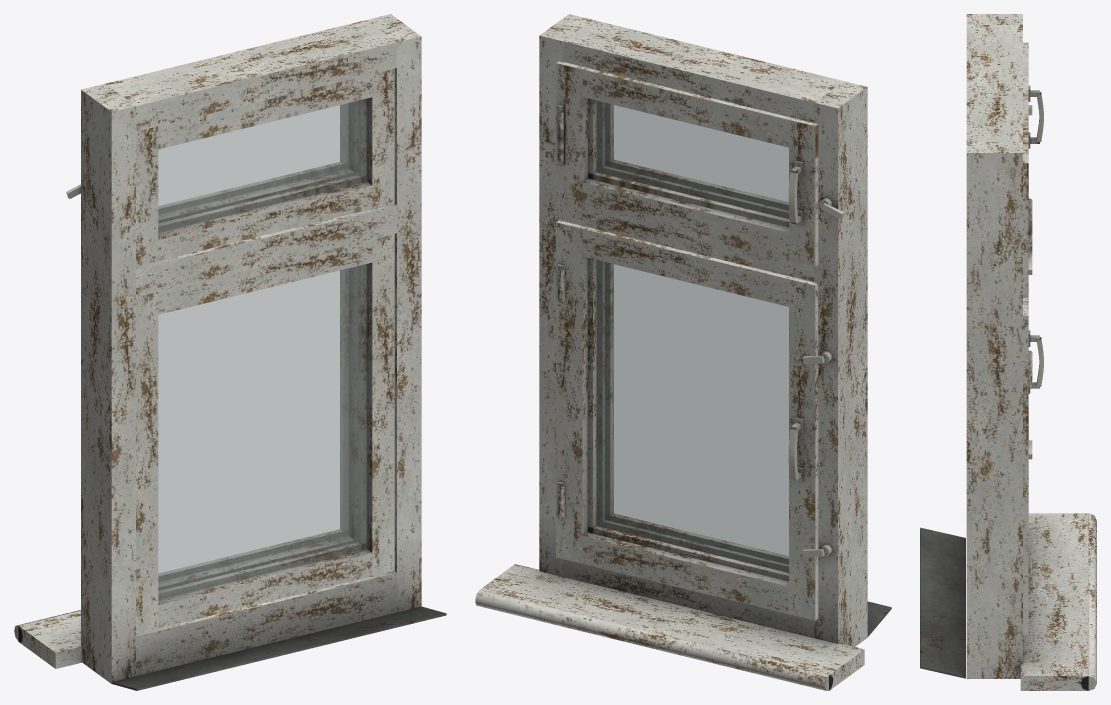
File: win_1_small_web.glb
3 views of the same model, side by side, from view 1: azimuth 30°, elevation 25°; view 2: azimuth 150°, elevation 25°; view 3: azimuth 270°, elevation 25° (orthographic). The views are drawn at different scales.
Parts seen in each view (by area): view 1: Win1Small_Body, Glass_Sash_C_out, Glass_Sash_C_in, Sash_C_Mesh, Fort_C_Mesh, Glass_Fort_C_out, Glass_Fort_C_in; view 2: Win1Small_Body, Glass_Sash_C_in, Sash_C_Mesh, Glass_Sash_C_out, Fort_C_Mesh, Glass_Fort_C_in, Glass_Fort_C_out; view 3: Win1Small_Body, Sash_C_Mesh, Fort_C_Mesh.
Boxes of the visible parts, left/top/right/bottom form: Win1Small_Body: left=14, top=14, right=446, bottom=690; Glass_Sash_C_out: left=158, top=264, right=366, bottom=599; Glass_Sash_C_in: left=158, top=269, right=348, bottom=576; Sash_C_Mesh: left=136, top=234, right=394, bottom=633; Fort_C_Mesh: left=136, top=68, right=394, bottom=266; Glass_Fort_C_out: left=158, top=99, right=366, bottom=231; Glass_Fort_C_in: left=158, top=104, right=348, bottom=213; Win1Small_Body: left=475, top=14, right=891, bottom=690; Glass_Sash_C_in: left=596, top=260, right=788, bottom=572; Sash_C_Mesh: left=556, top=220, right=818, bottom=620; Glass_Sash_C_out: left=613, top=264, right=788, bottom=555; Fort_C_Mesh: left=556, top=61, right=818, bottom=266; Glass_Fort_C_in: left=596, top=101, right=788, bottom=218; Glass_Fort_C_out: left=613, top=105, right=788, bottom=201; Win1Small_Body: left=920, top=14, right=1096, bottom=690; Sash_C_Mesh: left=1023, top=297, right=1043, bottom=635; Fort_C_Mesh: left=1023, top=42, right=1043, bottom=297.
Bounding box in the file's own units: 0.82 × 1.24 × 0.3765.
2 materials, 1 textured.
